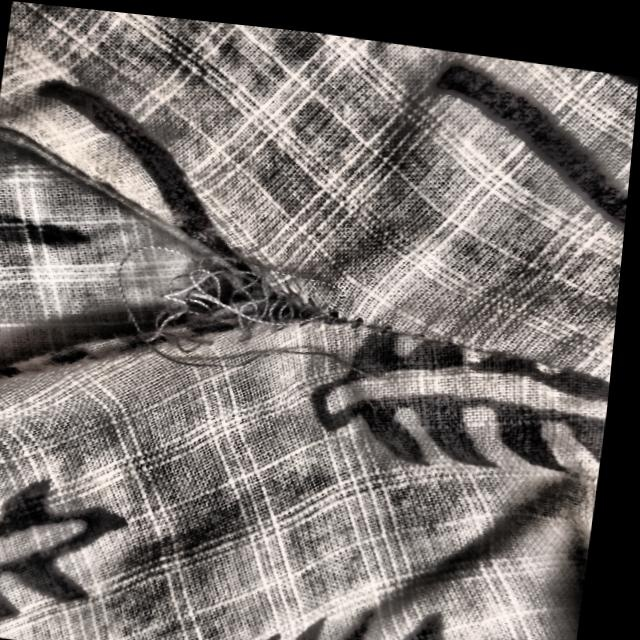Stitch: (85, 206, 419, 410)
